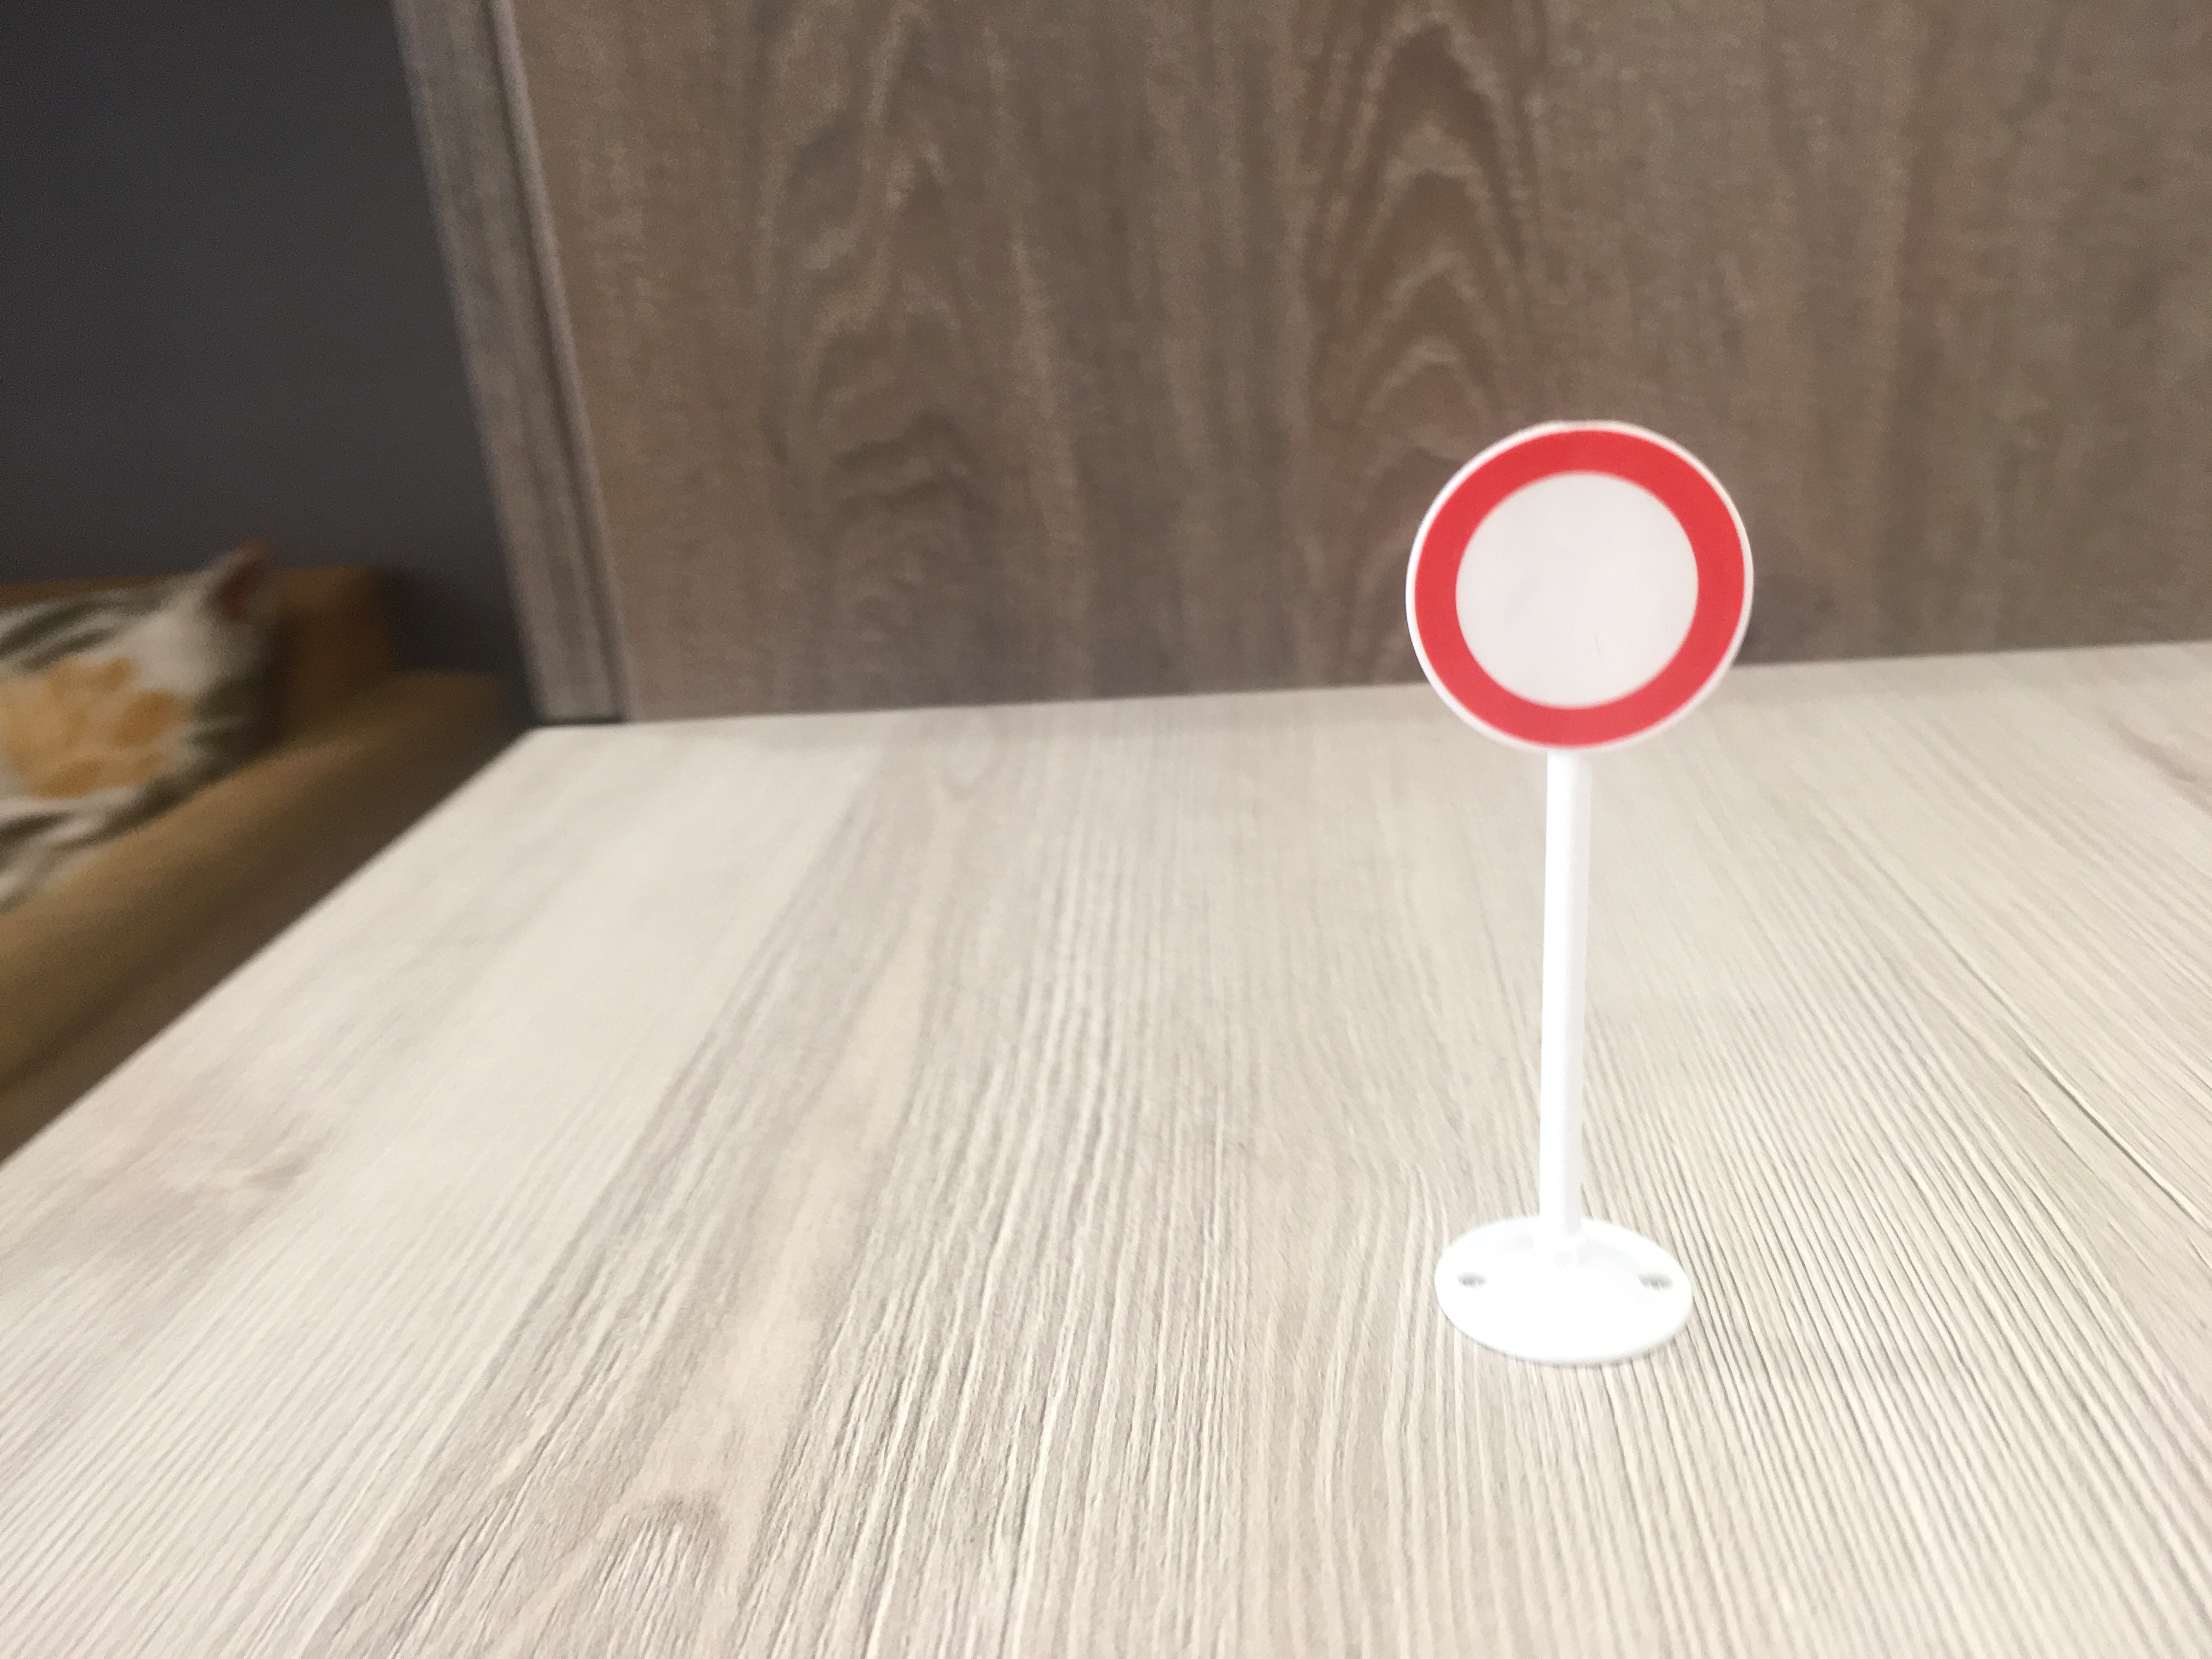noDrive: (1404, 420, 1763, 762)
